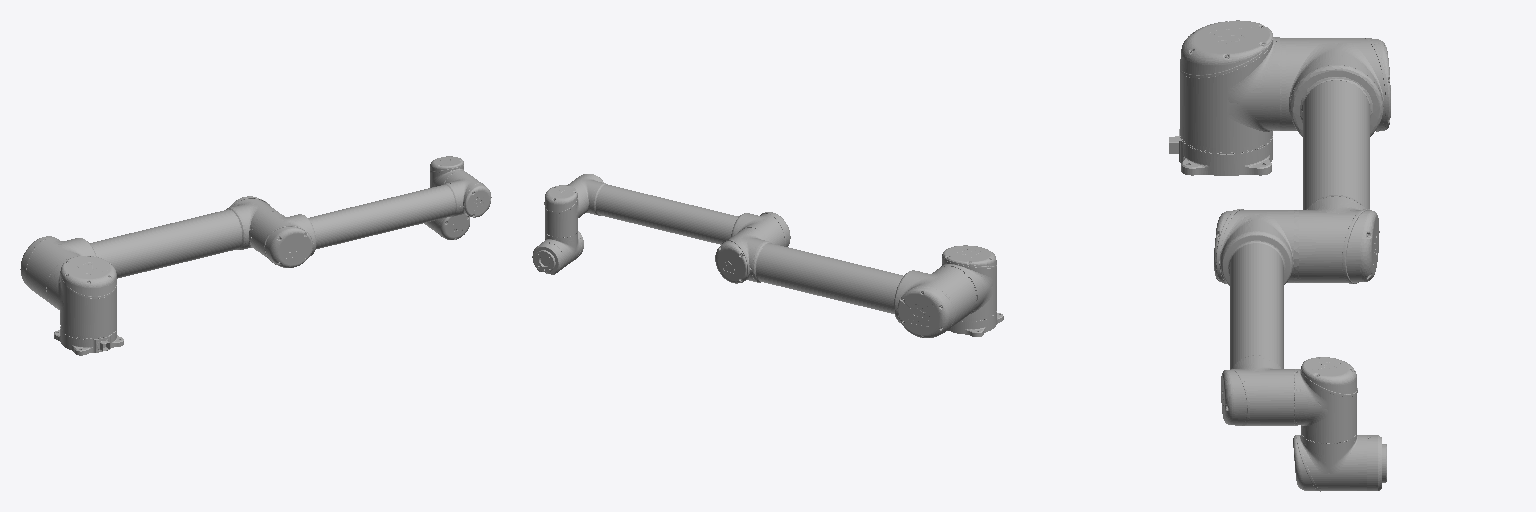
robot.urdf — ur10:
<?xml version="1.0" ?>
<!-- =================================================================================== -->
<!-- |    This document was autogenerated by xacro from ur10_robot.urdf.xacro          | -->
<!-- |    EDITING THIS FILE BY HAND IS NOT RECOMMENDED                                 | -->
<!-- =================================================================================== -->
<robot name="ur10" xmlns:xacro="http://ros.org/wiki/xacro">
  <gazebo>
    <plugin filename="libgazebo_ros_control.so" name="ros_control">
      <!--robotNamespace>/</robotNamespace-->
      <!--robotSimType>gazebo_ros_control/DefaultRobotHWSim</robotSimType-->
    </plugin>
    <!--
    <plugin name="gazebo_ros_power_monitor_controller" filename="libgazebo_ros_power_monitor.so">
      <alwaysOn>true</alwaysOn>
      <updateRate>1.0</updateRate>
      <timeout>5</timeout>
      <powerStateTopic>power_state</powerStateTopic>
      <powerStateRate>10.0</powerStateRate>
      <fullChargeCapacity>87.78</fullChargeCapacity>     
      <dischargeRate>-474</dischargeRate>
      <chargeRate>525</chargeRate>
      <dischargeVoltage>15.52</dischargeVoltage>
      <chargeVoltage>16.41</chargeVoltage>
    </plugin>
-->
  </gazebo>
  <!--
  Author: [author]
  Contributers: [author], [author], [author]
-->
  <!-- measured from model -->
  <link name="base_link">
    <visual>
      <geometry>
        <mesh filename="package://ur_description/meshes/ur10/visual/base.dae"/>
      </geometry>
      <material name="LightGrey">
        <color rgba="0.7 0.7 0.7 1.0"/>
      </material>
    </visual>
    <collision>
      <geometry>
        <mesh filename="package://ur_description/meshes/ur10/collision/base.stl"/>
      </geometry>
    </collision>
    <inertial>
      <mass value="4.0"/>
      <origin rpy="0 0 0" xyz="0.0 0.0 0.0"/>
      <inertia ixx="0.0061063308908" ixy="0.0" ixz="0.0" iyy="0.0061063308908" iyz="0.0" izz="0.01125"/>
    </inertial>
  </link>
  <joint name="shoulder_pan_joint" type="revolute">
    <parent link="base_link"/>
    <child link="shoulder_link"/>
    <origin rpy="0.0 0.0 0.0" xyz="0.0 0.0 0.1273"/>
    <axis xyz="0 0 1"/>
    <limit effort="330.0" lower="-6.28318530718" upper="6.28318530718" velocity="2.16"/>
    <dynamics damping="0.0" friction="0.0"/>
  </joint>
  <link name="shoulder_link">
    <visual>
      <geometry>
        <mesh filename="package://ur_description/meshes/ur10/visual/shoulder.dae"/>
      </geometry>
      <material name="LightGrey">
        <color rgba="0.7 0.7 0.7 1.0"/>
      </material>
    </visual>
    <collision>
      <geometry>
        <mesh filename="package://ur_description/meshes/ur10/collision/shoulder.stl"/>
      </geometry>
    </collision>
    <inertial>
      <mass value="7.778"/>
      <origin rpy="0 0 0" xyz="0.0 0.0 0.0"/>
      <inertia ixx="0.0314743125769" ixy="0.0" ixz="0.0" iyy="0.0314743125769" iyz="0.0" izz="0.021875625"/>
    </inertial>
  </link>
  <joint name="shoulder_lift_joint" type="revolute">
    <parent link="shoulder_link"/>
    <child link="upper_arm_link"/>
    <origin rpy="0.0 1.57079632679 0.0" xyz="0.0 0.220941 0.0"/>
    <axis xyz="0 1 0"/>
    <limit effort="330.0" lower="-6.28318530718" upper="6.28318530718" velocity="2.16"/>
    <dynamics damping="0.0" friction="0.0"/>
  </joint>
  <link name="upper_arm_link">
    <visual>
      <geometry>
        <mesh filename="package://ur_description/meshes/ur10/visual/upperarm.dae"/>
      </geometry>
      <material name="LightGrey">
        <color rgba="0.7 0.7 0.7 1.0"/>
      </material>
    </visual>
    <collision>
      <geometry>
        <mesh filename="package://ur_description/meshes/ur10/collision/upperarm.stl"/>
      </geometry>
    </collision>
    <inertial>
      <mass value="12.93"/>
      <origin rpy="0 0 0" xyz="0.0 0.0 0.306"/>
      <inertia ixx="0.421753803798" ixy="0.0" ixz="0.0" iyy="0.421753803798" iyz="0.0" izz="0.036365625"/>
    </inertial>
  </link>
  <joint name="elbow_joint" type="revolute">
    <parent link="upper_arm_link"/>
    <child link="forearm_link"/>
    <origin rpy="0.0 0.0 0.0" xyz="0.0 -0.1719 0.612"/>
    <axis xyz="0 1 0"/>
    <limit effort="150.0" lower="-3.14159265359" upper="3.14159265359" velocity="3.15"/>
    <dynamics damping="0.0" friction="0.0"/>
  </joint>
  <link name="forearm_link">
    <visual>
      <geometry>
        <mesh filename="package://ur_description/meshes/ur10/visual/forearm.dae"/>
      </geometry>
      <material name="LightGrey">
        <color rgba="0.7 0.7 0.7 1.0"/>
      </material>
    </visual>
    <collision>
      <geometry>
        <mesh filename="package://ur_description/meshes/ur10/collision/forearm.stl"/>
      </geometry>
    </collision>
    <inertial>
      <mass value="3.87"/>
      <origin rpy="0 0 0" xyz="0.0 0.0 0.28615"/>
      <inertia ixx="0.111069694097" ixy="0.0" ixz="0.0" iyy="0.111069694097" iyz="0.0" izz="0.010884375"/>
    </inertial>
  </link>
  <joint name="wrist_1_joint" type="revolute">
    <parent link="forearm_link"/>
    <child link="wrist_1_link"/>
    <origin rpy="0.0 1.57079632679 0.0" xyz="0.0 0.0 0.5723"/>
    <axis xyz="0 1 0"/>
    <limit effort="54.0" lower="-6.28318530718" upper="6.28318530718" velocity="3.2"/>
    <dynamics damping="0.0" friction="0.0"/>
  </joint>
  <link name="wrist_1_link">
    <visual>
      <geometry>
        <mesh filename="package://ur_description/meshes/ur10/visual/wrist1.dae"/>
      </geometry>
      <material name="LightGrey">
        <color rgba="0.7 0.7 0.7 1.0"/>
      </material>
    </visual>
    <collision>
      <geometry>
        <mesh filename="package://ur_description/meshes/ur10/collision/wrist1.stl"/>
      </geometry>
    </collision>
    <inertial>
      <mass value="1.96"/>
      <origin rpy="0 0 0" xyz="0.0 0.0 0.0"/>
      <inertia ixx="0.0051082479567" ixy="0.0" ixz="0.0" iyy="0.0051082479567" iyz="0.0" izz="0.0055125"/>
    </inertial>
  </link>
  <joint name="wrist_2_joint" type="revolute">
    <parent link="wrist_1_link"/>
    <child link="wrist_2_link"/>
    <origin rpy="0.0 0.0 0.0" xyz="0.0 0.1149 0.0"/>
    <axis xyz="0 0 1"/>
    <limit effort="54.0" lower="-6.28318530718" upper="6.28318530718" velocity="3.2"/>
    <dynamics damping="0.0" friction="0.0"/>
  </joint>
  <link name="wrist_2_link">
    <visual>
      <geometry>
        <mesh filename="package://ur_description/meshes/ur10/visual/wrist2.dae"/>
      </geometry>
      <material name="LightGrey">
        <color rgba="0.7 0.7 0.7 1.0"/>
      </material>
    </visual>
    <collision>
      <geometry>
        <mesh filename="package://ur_description/meshes/ur10/collision/wrist2.stl"/>
      </geometry>
    </collision>
    <inertial>
      <mass value="1.96"/>
      <origin rpy="0 0 0" xyz="0.0 0.0 0.0"/>
      <inertia ixx="0.0051082479567" ixy="0.0" ixz="0.0" iyy="0.0051082479567" iyz="0.0" izz="0.0055125"/>
    </inertial>
  </link>
  <joint name="wrist_3_joint" type="revolute">
    <parent link="wrist_2_link"/>
    <child link="wrist_3_link"/>
    <origin rpy="0.0 0.0 0.0" xyz="0.0 0.0 0.1157"/>
    <axis xyz="0 1 0"/>
    <limit effort="54.0" lower="-6.28318530718" upper="6.28318530718" velocity="3.2"/>
    <dynamics damping="0.0" friction="0.0"/>
  </joint>
  <link name="wrist_3_link">
    <visual>
      <geometry>
        <mesh filename="package://ur_description/meshes/ur10/visual/wrist3.dae"/>
      </geometry>
      <material name="LightGrey">
        <color rgba="0.7 0.7 0.7 1.0"/>
      </material>
    </visual>
    <collision>
      <geometry>
        <mesh filename="package://ur_description/meshes/ur10/collision/wrist3.stl"/>
      </geometry>
    </collision>
    <inertial>
      <mass value="0.202"/>
      <origin rpy="0 0 0" xyz="0.0 0.0 0.0"/>
      <inertia ixx="0.000526462289415" ixy="0.0" ixz="0.0" iyy="0.000526462289415" iyz="0.0" izz="0.000568125"/>
    </inertial>
  </link>
  <!--
  <joint name="ee_fixed_joint" type="fixed">
    <parent link="wrist_3_link"/>
    <child link="ee_link"/>
    <origin rpy="0.0 0.0 1.57079632679" xyz="0.0 0.0922 0.0"/>
  </joint>
  <link name="ee_link">
    <collision>
      <geometry>
        <box size="0.01 0.01 0.01"/>
      </geometry>
      <origin rpy="0 0 0" xyz="-0.01 0 0"/>
    </collision>
  </link>
  -->
  
  <!-- nothing to do here at the moment -->
  <!-- ROS base_link to UR 'Base' Coordinates transform -->
  
  <!-- Frame coincident with all-zeros TCP on UR controller -->
  
</robot>

--- Render facts (derived) ---
The picture shows the robot from 3 angles, left to right: view 1: azimuth 30°, elevation 25°; view 2: azimuth 150°, elevation 25°; view 3: azimuth 270°, elevation 25°; orthographic projection.
Robot: ur10 — 7 links, 6 joints (6 revolute); root link base_link; default pose: all joints at 0.
Visible links, largest first — view 1: upper_arm_link, forearm_link, shoulder_link, base_link, wrist_2_link, wrist_1_link; view 2: upper_arm_link, forearm_link, shoulder_link, wrist_1_link, wrist_3_link, wrist_2_link, base_link; view 3: upper_arm_link, forearm_link, shoulder_link, wrist_1_link, wrist_2_link, base_link, wrist_3_link.
Boxes of the visible links, x1,y1,x2,y2 form: upper_arm_link: [20, 196, 278, 304]; forearm_link: [249, 171, 491, 267]; shoulder_link: [48, 256, 116, 339]; base_link: [54, 328, 123, 355]; wrist_2_link: [424, 214, 469, 239]; wrist_1_link: [430, 156, 463, 187]; upper_arm_link: [715, 229, 976, 337]; forearm_link: [567, 174, 790, 246]; shoulder_link: [940, 245, 996, 321]; wrist_1_link: [544, 185, 585, 237]; wrist_3_link: [532, 242, 563, 274]; wrist_2_link: [542, 231, 583, 269]; base_link: [948, 313, 1003, 336]; upper_arm_link: [1280, 38, 1390, 283]; forearm_link: [1214, 209, 1298, 425]; shoulder_link: [1180, 20, 1279, 154]; wrist_1_link: [1295, 357, 1357, 443]; wrist_2_link: [1293, 435, 1366, 491]; base_link: [1169, 129, 1272, 175]; wrist_3_link: [1367, 435, 1386, 490].
Size in the robot's own frame: 1.31 by 0.3552 by 0.2501 metres.
7 mesh visuals loaded from 7 distinct referenced files (7 Collada DAE).